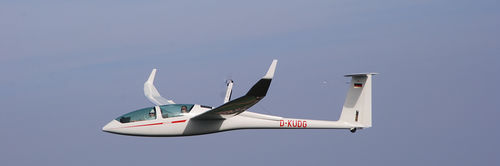Aeronef_de_loisir: (100, 62, 411, 153)
